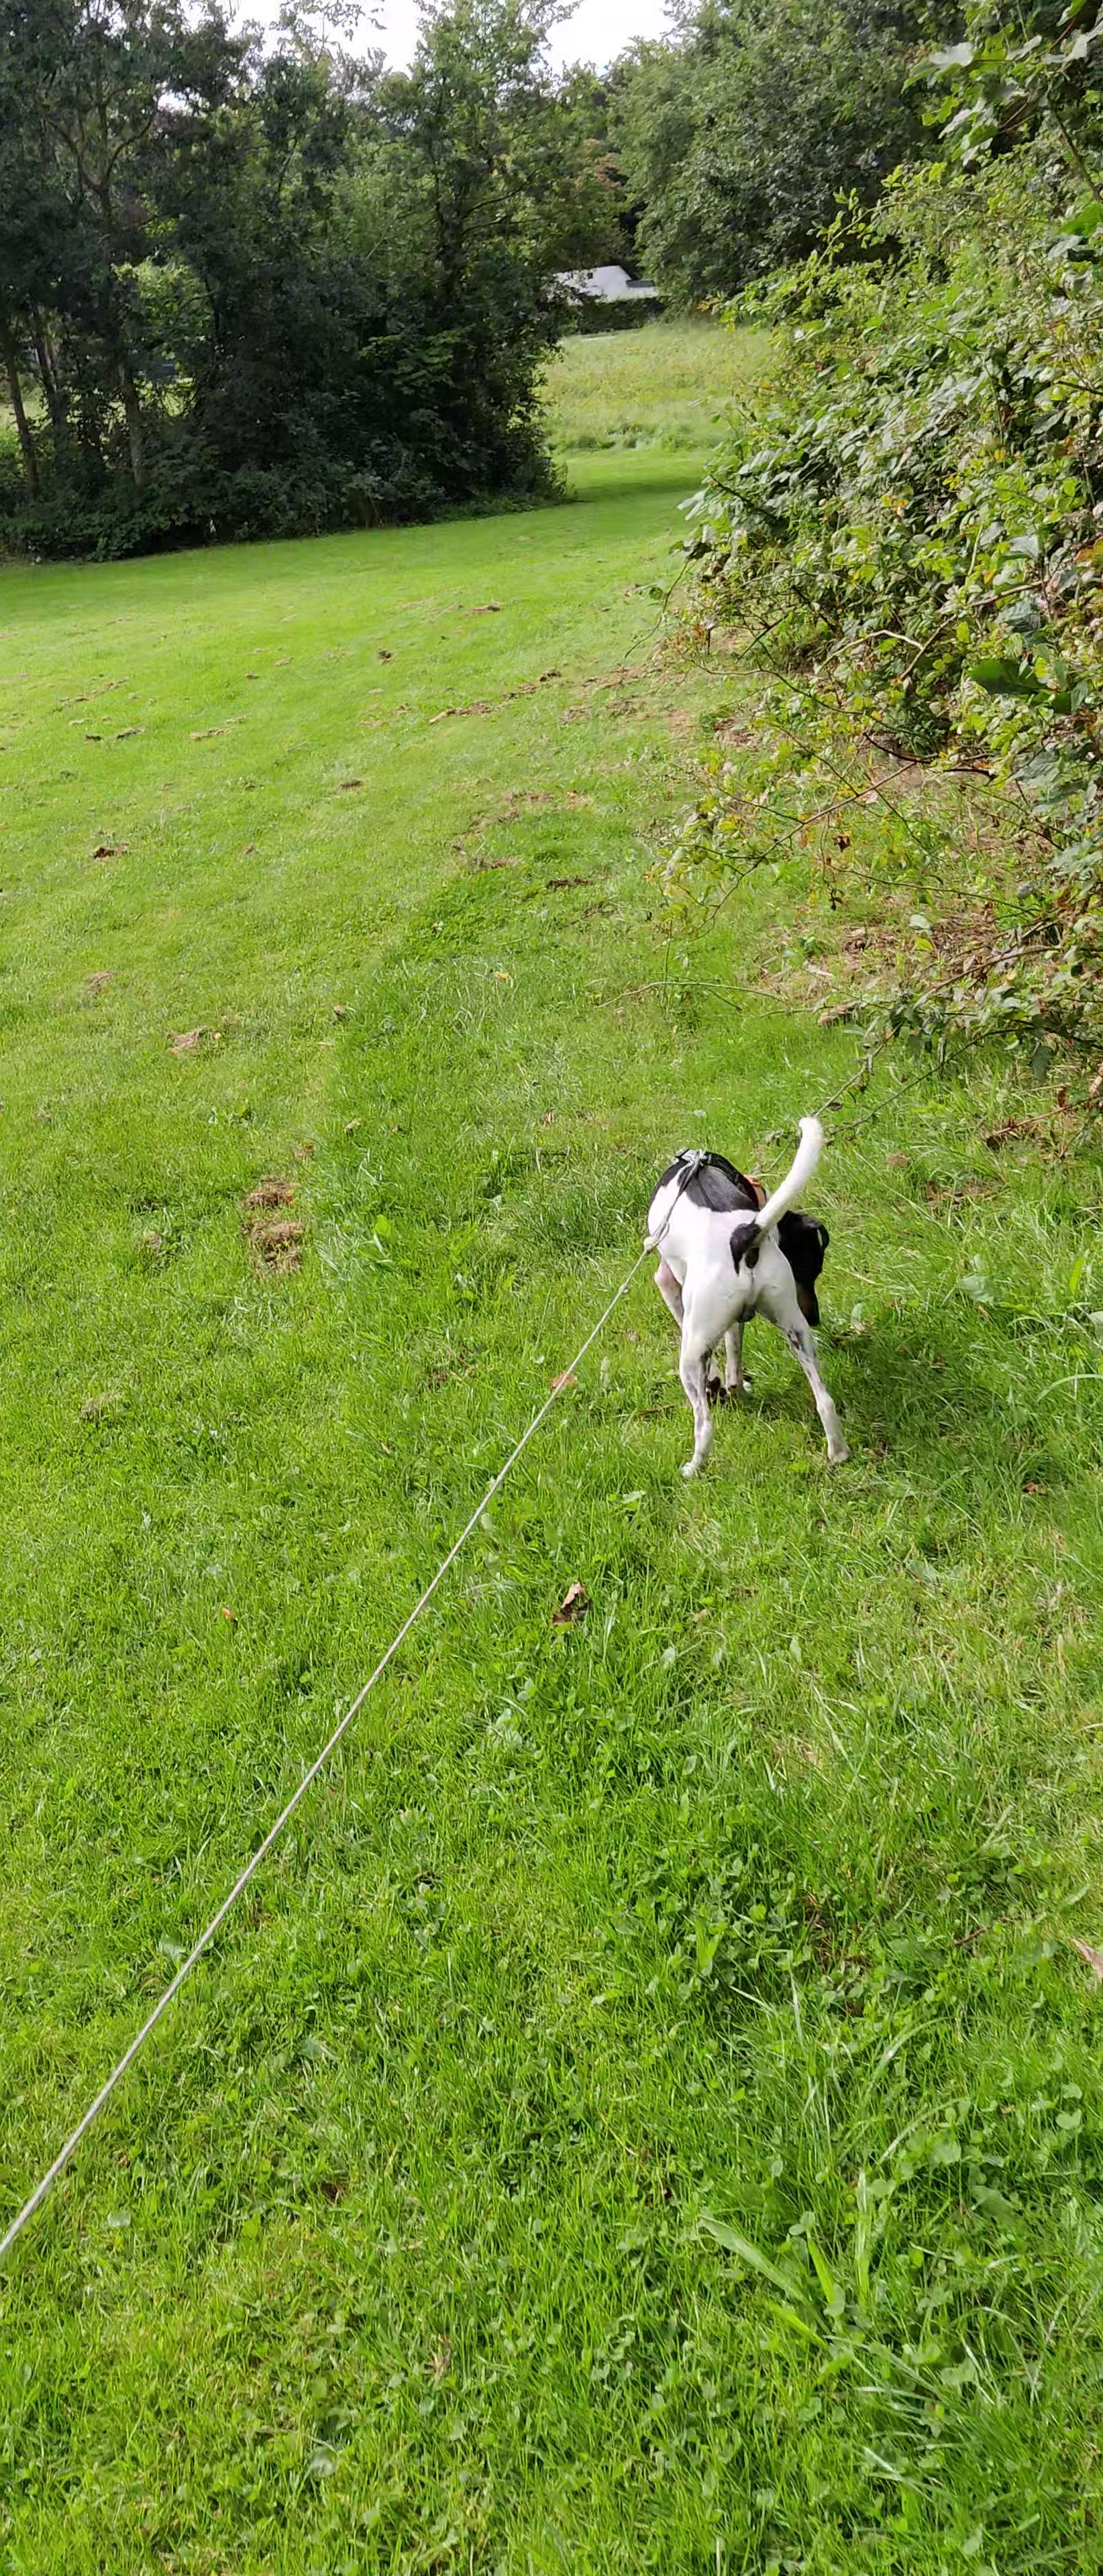Dog: (636, 1099, 868, 1488)
